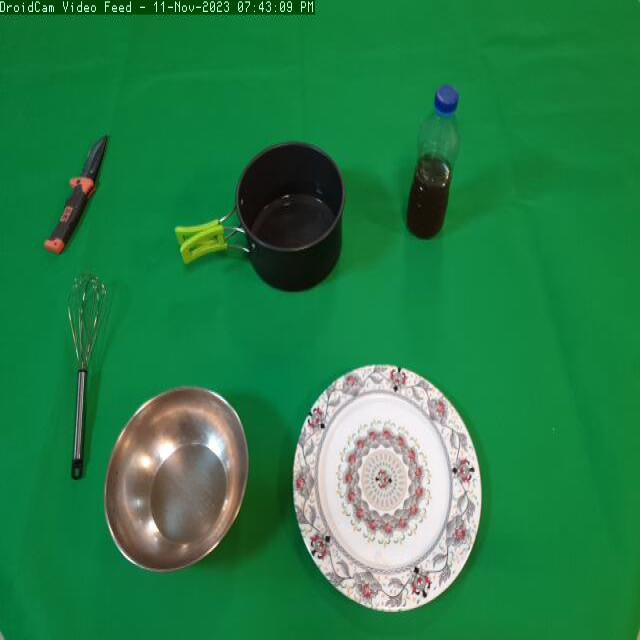bowl: (97, 384, 254, 580)
fullbottle: (403, 77, 467, 252)
knife: (42, 126, 113, 264)
plate: (292, 357, 496, 624)
pot: (174, 138, 354, 304)
whisk: (60, 273, 125, 491)
